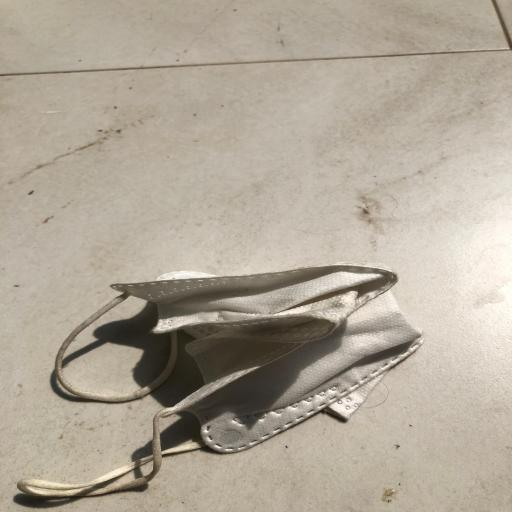waste: (16, 224, 436, 506)
